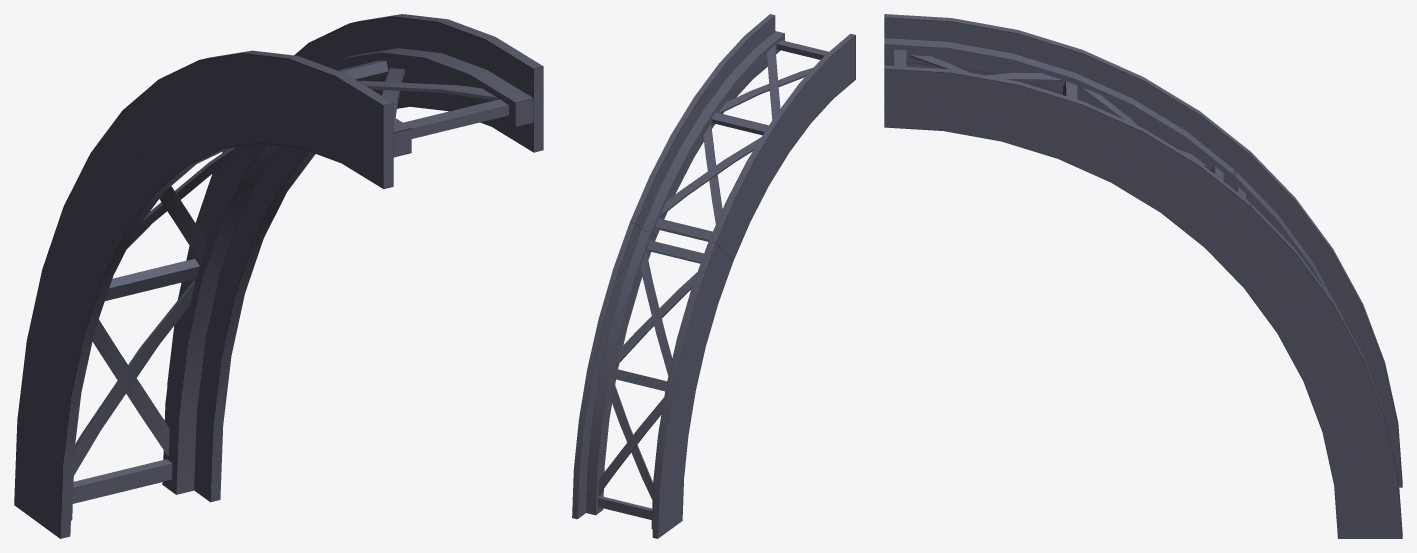
File: Meta_Beam_05.FBX
3 views of the same model, side by side, from view 1: azimuth 30°, elevation 25°; view 2: azimuth 150°, elevation 25°; view 3: azimuth 270°, elevation 25° (orthographic). The views are drawn at different scales.
Parts seen in each view (by area): view 1: Meta_Beam_05; view 2: Meta_Beam_05; view 3: Meta_Beam_05.
Boxes of the visible parts, x1,y1,x2,y2 form: Meta_Beam_05: (14,14,543,538); Meta_Beam_05: (572,14,855,538); Meta_Beam_05: (884,14,1402,538).
Bounding box in the file's own units: 1 × 4 × 4.
